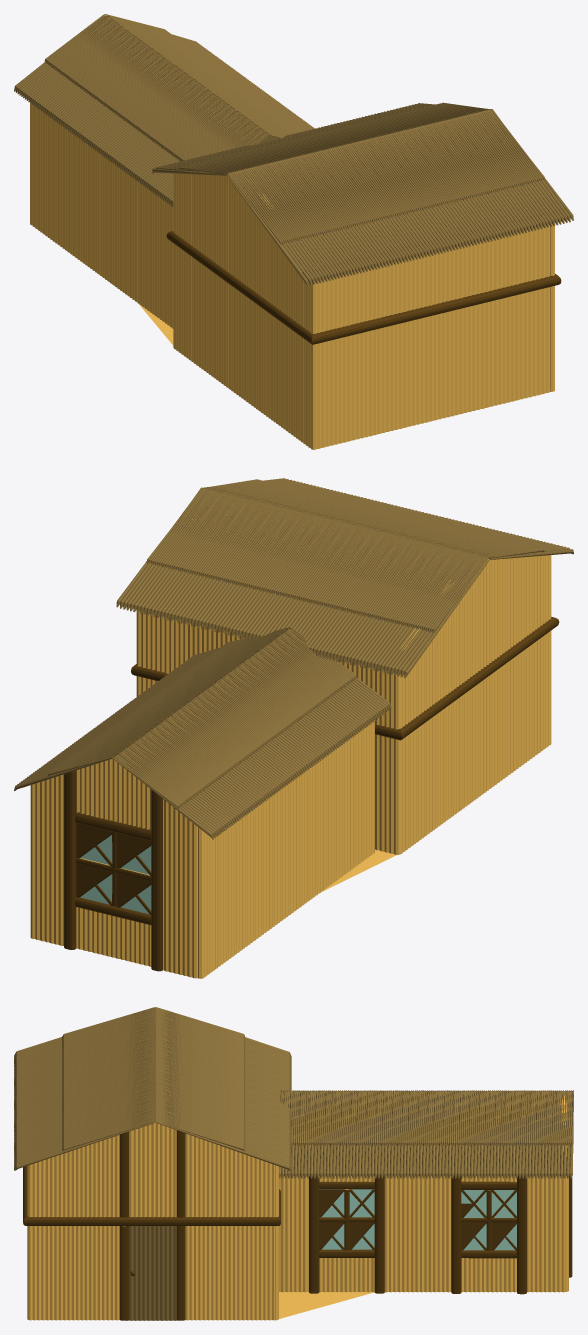
The model's file is langlois_Audrey_Maison2.fbx.
3 renders of one model, top to bottom at view 1: azimuth 30°, elevation 25°; view 2: azimuth 150°, elevation 25°; view 3: azimuth 270°, elevation 25°, orthographic. The views are drawn at different scales.
Parts seen in each view (by area): view 1: Cylindre.001, Cube.011, Cylindre.003, Cube.014, Cylindre.006, Cube.009, Cube.008, Cube.020, Cube.010, Cube.018, Cube.019, Cylindre; view 2: Cube.011, Cylindre.003, Cylindre.006, Cube.014, Cube.009, Cube.008, Cylindre.002, Cube.020, Cube.012, Cylindre.008, Cylindre.007, Cylindre.012 (+9 smaller); view 3: Cube.011, Cube.014, Cylindre, Cube.010, Cylindre.013, Cylindre.004, Cube.008, Cube.009, Mur, Cylindre.014, Cylindre.015, Cube.013 (+12 smaller).
Part boxes in pixels (x1,y1,x2,y2): Cylindre.001: (317, 224, 549, 448); Cube.011: (178, 102, 545, 244); Cylindre.003: (174, 173, 317, 449); Cube.014: (44, 14, 303, 161); Cylindre.006: (30, 101, 173, 328); Cube.009: (155, 103, 573, 284); Cube.008: (14, 14, 314, 207); Cube.020: (178, 109, 562, 271); Cube.010: (166, 231, 561, 344); Cube.018: (152, 168, 570, 286); Cube.019: (90, 16, 268, 143); Cylindre: (504, 143, 554, 391); Cube.011: (146, 479, 544, 632); Cylindre.003: (400, 555, 551, 853); Cylindre.006: (198, 720, 374, 978); Cube.014: (47, 627, 357, 808); Cube.009: (116, 478, 569, 676); Cube.008: (14, 627, 391, 839); Cylindre.002: (136, 609, 400, 854); Cube.020: (137, 487, 562, 661); Cube.012: (64, 770, 162, 971); Cylindre.008: (163, 799, 197, 978); Cylindre.007: (30, 774, 63, 945); Cylindre.012: (76, 757, 151, 829); Cube.011: (62, 1007, 245, 1151); Cube.014: (280, 1090, 573, 1145); Cylindre: (27, 1135, 119, 1320); Cube.010: (23, 1130, 526, 1320); Cylindre.013: (185, 1133, 274, 1320); Cylindre.004: (384, 1175, 565, 1292); Cube.008: (279, 1090, 573, 1178); Cube.009: (14, 1008, 291, 1171); Mur: (123, 1176, 516, 1320); Cylindre.014: (126, 1226, 176, 1320); Cylindre.015: (129, 1122, 176, 1217); Cube.013: (280, 1092, 565, 1154).
Bounding box in the file's own units: 485 × 392 × 982.
